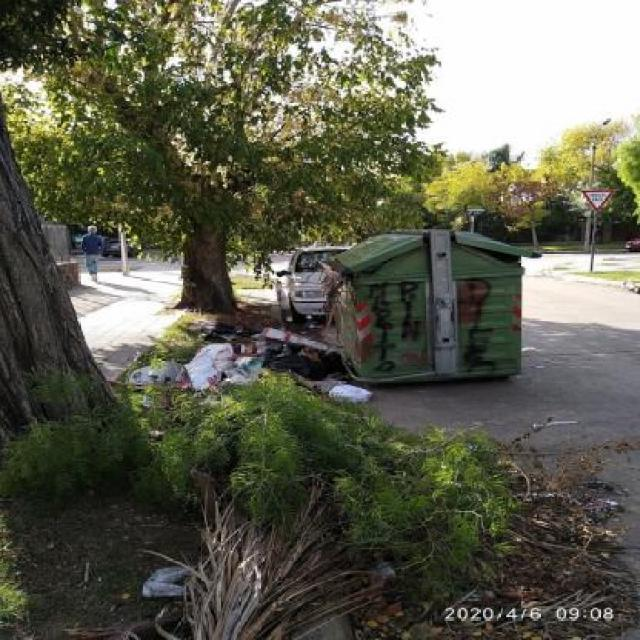garbage: (146, 320, 364, 404), (125, 565, 205, 616), (554, 474, 630, 522)
